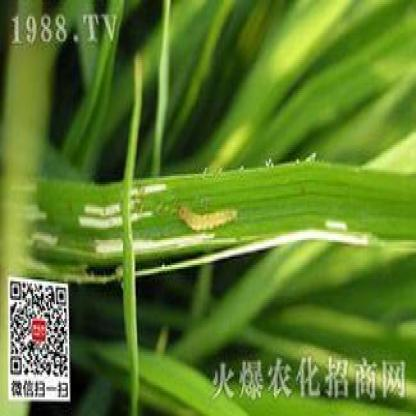leaf-folder: (174, 196, 241, 234)
